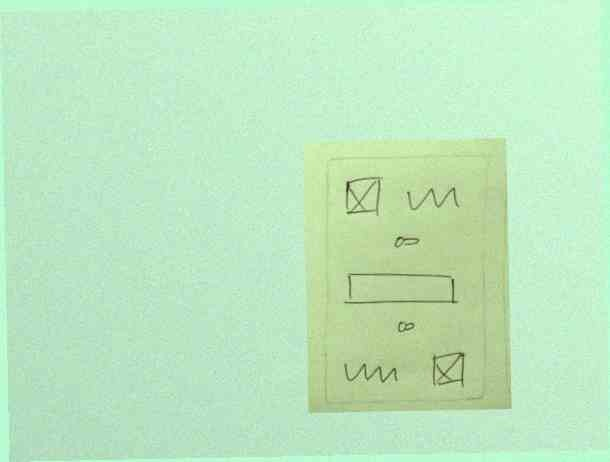image: (343, 172, 384, 223), (426, 350, 475, 391)
switch: (389, 231, 426, 256), (393, 318, 418, 335)
text: (401, 182, 464, 214), (339, 358, 402, 389)
text_input: (340, 268, 462, 309)
